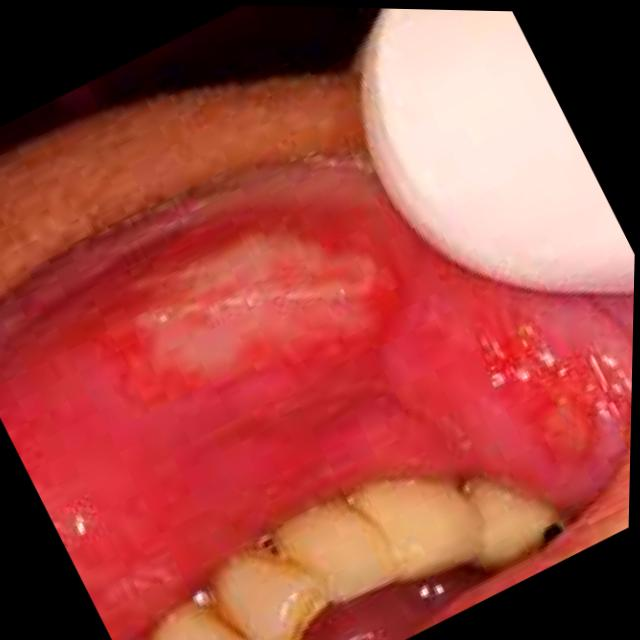ulcer: (103, 215, 405, 403)
